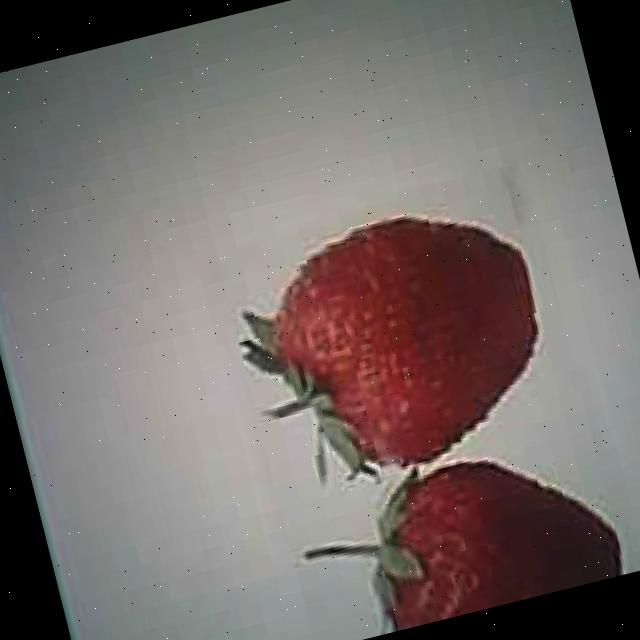strawberry: (256, 188, 565, 486), (342, 428, 624, 636)
